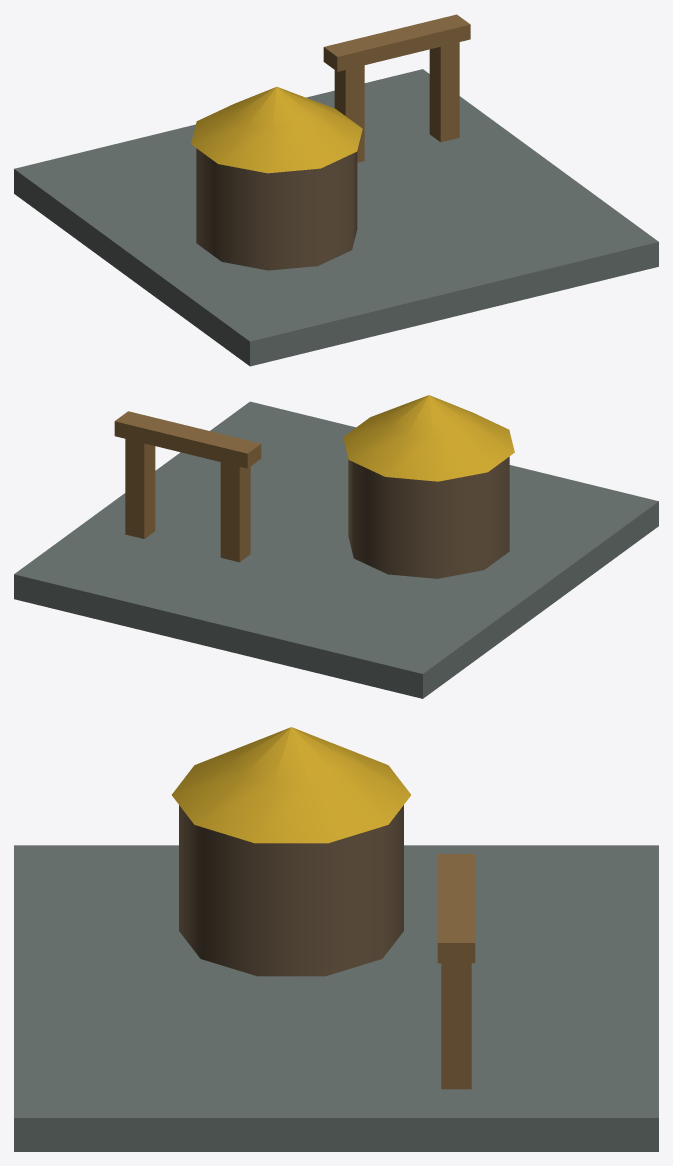
File: dan_qi_qu.glb
The picture shows the model from 3 angles, top to bottom: view 1: azimuth 30°, elevation 25°; view 2: azimuth 150°, elevation 25°; view 3: azimuth 270°, elevation 25°; orthographic projection. The views are drawn at different scales.
Visible parts, largest first — view 1: _MeshInstance3D_148, _MeshInstance3D_149, _MeshInstance3D_150, _MeshInstance3D_153, _MeshInstance3D_152, _MeshInstance3D_151; view 2: _MeshInstance3D_148, _MeshInstance3D_149, _MeshInstance3D_150, _MeshInstance3D_153, _MeshInstance3D_151, _MeshInstance3D_152; view 3: _MeshInstance3D_148, _MeshInstance3D_149, _MeshInstance3D_150, _MeshInstance3D_153, _MeshInstance3D_152.
Boxes of the visible parts, x1,y1,x2,y2 form: _MeshInstance3D_148: (14,69,658,366); _MeshInstance3D_149: (196,148,357,270); _MeshInstance3D_150: (191,87,362,173); _MeshInstance3D_153: (323,14,470,71); _MeshInstance3D_152: (429,42,459,142); _MeshInstance3D_151: (334,65,364,162); _MeshInstance3D_148: (14,401,658,698); _MeshInstance3D_149: (348,456,509,578); _MeshInstance3D_150: (343,395,514,481); _MeshInstance3D_153: (114,411,261,468); _MeshInstance3D_151: (220,462,250,562); _MeshInstance3D_152: (125,439,155,538); _MeshInstance3D_148: (14,845,658,1151); _MeshInstance3D_149: (179,805,403,976); _MeshInstance3D_150: (172,727,410,843); _MeshInstance3D_153: (437,854,475,963); _MeshInstance3D_152: (441,963,471,1089).
Size of the model in its own units: 0.86 by 0.35 by 0.86.
